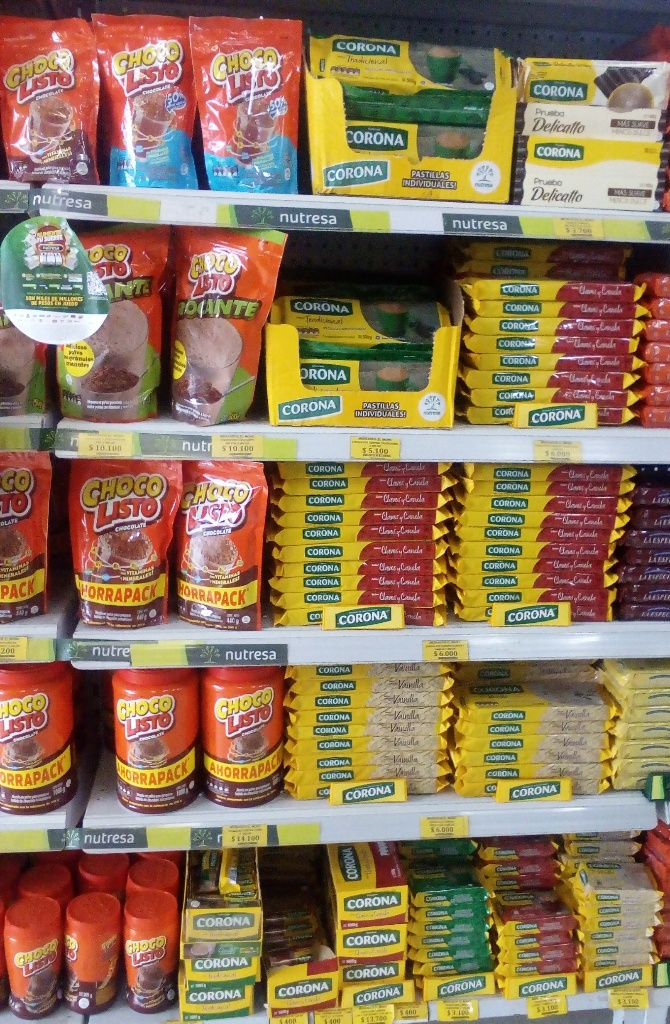COL0170102DYP50000: (154, 219, 286, 431)
COL0170103DYP44000: (173, 454, 284, 632)
COL0170103TRR00100: (199, 666, 294, 809)
COL0170103TRR30000: (118, 891, 184, 1016)
COL0170104DYP20000: (185, 12, 309, 196)
